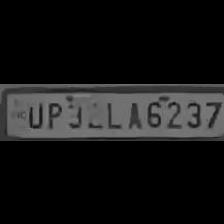2: (164, 98, 182, 128)
3: (183, 98, 201, 128)
6: (142, 98, 162, 128)
7: (202, 98, 222, 128)
A: (123, 98, 141, 128)
L: (101, 96, 121, 130)
P: (43, 99, 62, 129)
U: (23, 98, 43, 128)
